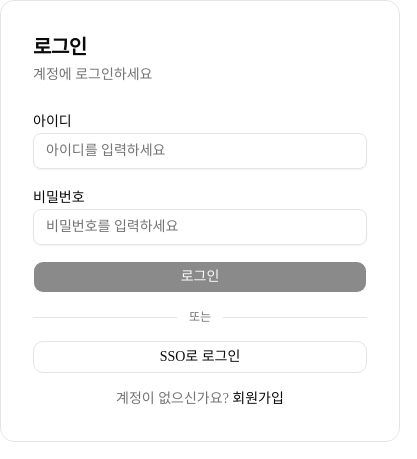
Test: LoginCard › 아이디·비밀번호 입력 시 로그인 버튼 활성화된다
Type "testuser" into the field labelled "아이디".
click(200, 151); type("testuser")  # box [33,133,367,169]
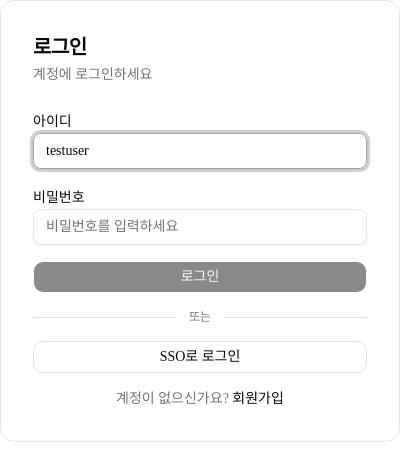
Type "password123" into the password field labelled "비밀번호".
click(200, 227); type("password123")  # box [33,209,367,245]
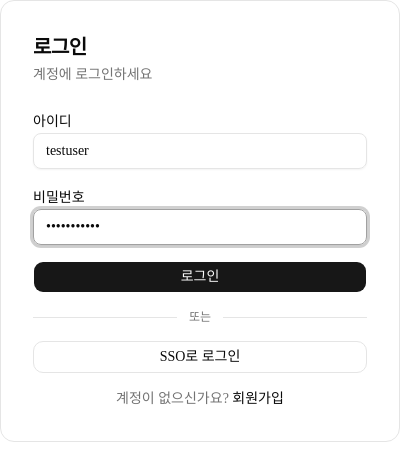
Result: the button "로그인" is enabled at [33,261,367,293]
